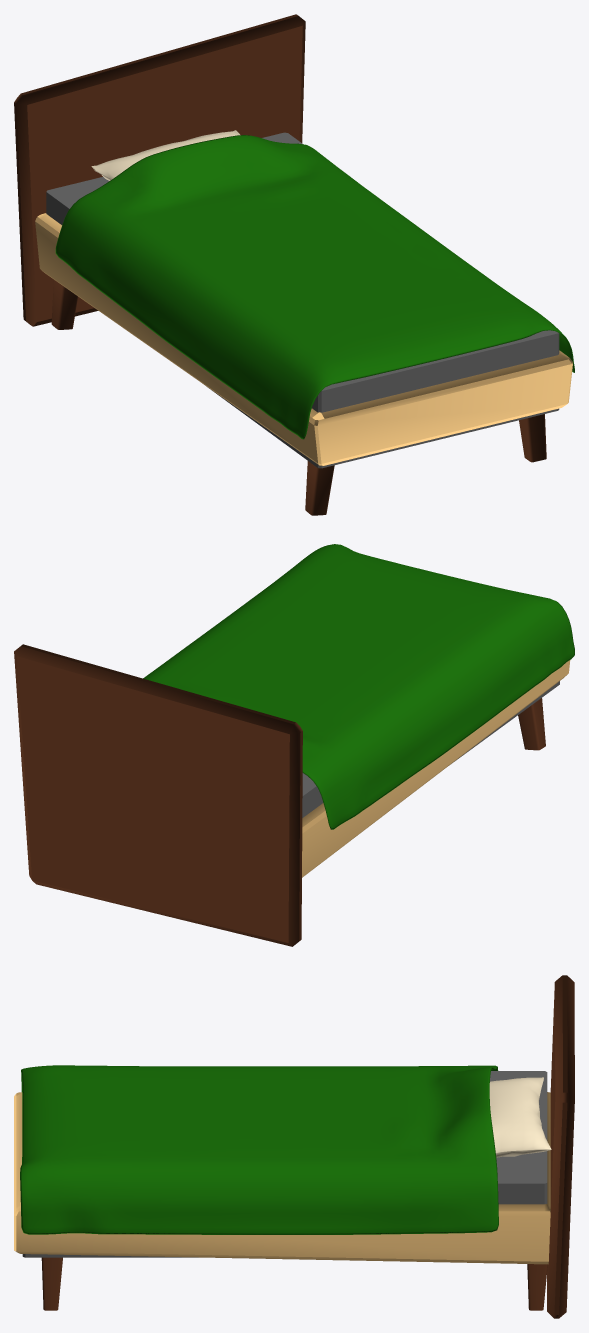
File: chuang.fbx
3 renders of one model, top to bottom at view 1: azimuth 30°, elevation 25°; view 2: azimuth 150°, elevation 25°; view 3: azimuth 270°, elevation 25°, orthographic. The views are drawn at different scales.
Visible parts, largest first — view 1: chuang; view 2: chuang; view 3: chuang.
Boxes of the visible parts, <box> form: chuang: <box>14,14,574,515</box>; chuang: <box>14,544,574,946</box>; chuang: <box>14,975,574,1318</box>.
Size of the model in its own units: 62.43 by 49.81 by 110.
